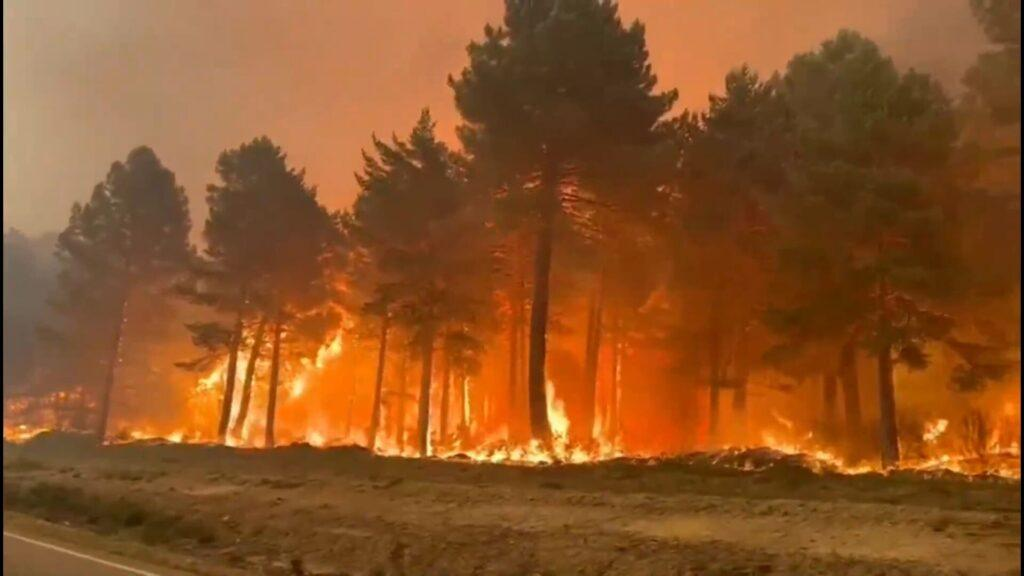fire: (403, 318, 1011, 536), (198, 296, 378, 471)
